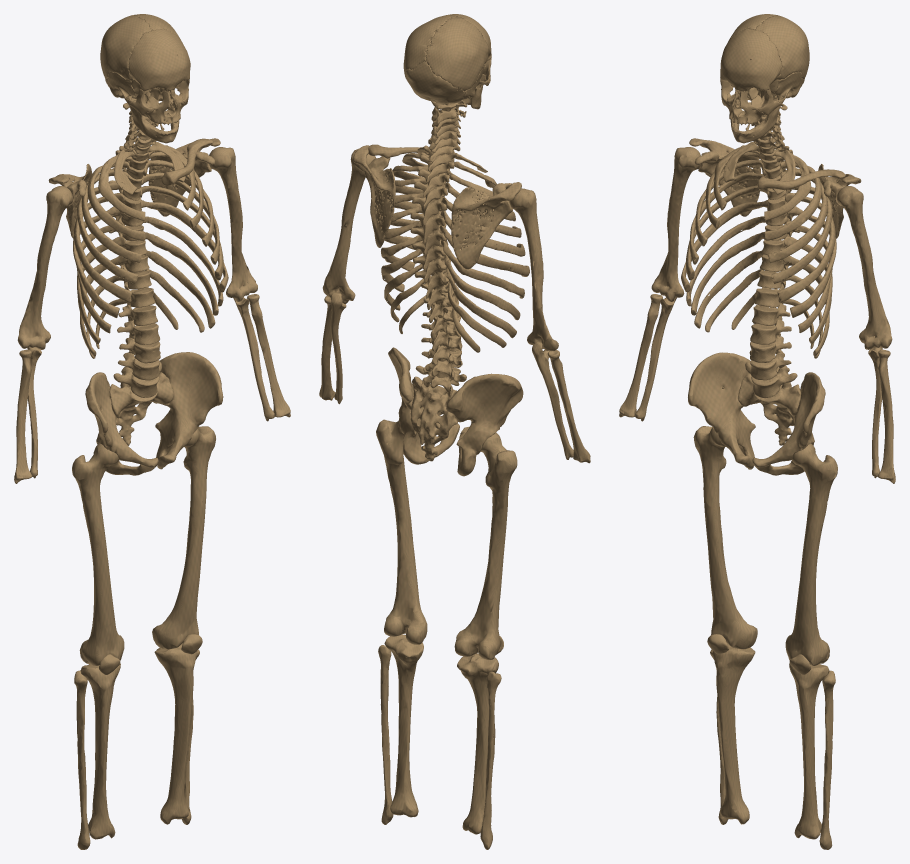
The model's file is skeleton.b0ea6dd8.glb.
3 views of the same model, side by side, from view 1: azimuth 30°, elevation 25°; view 2: azimuth 150°, elevation 25°; view 3: azimuth 330°, elevation 25° (orthographic).
Visible parts, largest first — view 1: Right femur, Left femur, Left hip bone, Left tibia, Frontal bone, Right tibia, Right humerus, Right hip bone, Left humerus, Right parietal bone, Sacrum, Right fibula (+33 smaller); view 2: Right femur, Left femur, Right hip bone, Right scapula, Right parietal bone, Left tibia, Right tibia, Right humerus, Sacrum, Left humerus, Left scapula, Left hip bone (+17 smaller); view 3: Left femur, Right femur, Right hip bone, Right tibia, Frontal bone, Left tibia, Left humerus, Right humerus, Left hip bone, Left parietal bone, Sacrum, Right scapula (+32 smaller).
Boxes of the visible parts, x1,y1,x2,y2 form: Right femur: [72, 443, 124, 665]; Left femur: [152, 426, 215, 649]; Left hip bone: [155, 352, 223, 469]; Left tibia: [154, 643, 197, 824]; Frontal bone: [128, 28, 190, 93]; Right tibia: [80, 663, 120, 839]; Right humerus: [17, 186, 72, 349]; Right hip bone: [85, 372, 158, 475]; Left humerus: [209, 147, 257, 301]; Right parietal bone: [100, 15, 152, 80]; Sacrum: [109, 372, 173, 445]; Right fibula: [74, 670, 90, 849]; Right femur: [454, 432, 517, 659]; Left femur: [376, 419, 427, 644]; Right hip bone: [446, 373, 523, 476]; Right scapula: [451, 182, 521, 269]; Right parietal bone: [425, 16, 488, 91]; Left tibia: [384, 634, 423, 817]; Right tibia: [457, 653, 498, 834]; Right humerus: [509, 188, 558, 351]; Sacrum: [410, 376, 457, 461]; Left humerus: [322, 149, 375, 303]; Left scapula: [353, 145, 395, 247]; Left hip bone: [388, 347, 459, 464]; Left femur: [785, 443, 837, 665]; Right femur: [693, 426, 757, 649]; Right hip bone: [688, 352, 755, 469]; Right tibia: [712, 643, 755, 824]; Frontal bone: [720, 28, 781, 92]; Left tibia: [789, 663, 829, 839]; Left humerus: [837, 186, 892, 349]; Right humerus: [651, 147, 700, 301]; Left hip bone: [752, 372, 825, 475]; Left parietal bone: [755, 15, 809, 79]; Sacrum: [738, 373, 801, 445]; Right scapula: [689, 138, 760, 216].
Size of the model in its own units: 1.54 by 4.4 by 0.5728.
Materials: 1 (1 with a texture image).
